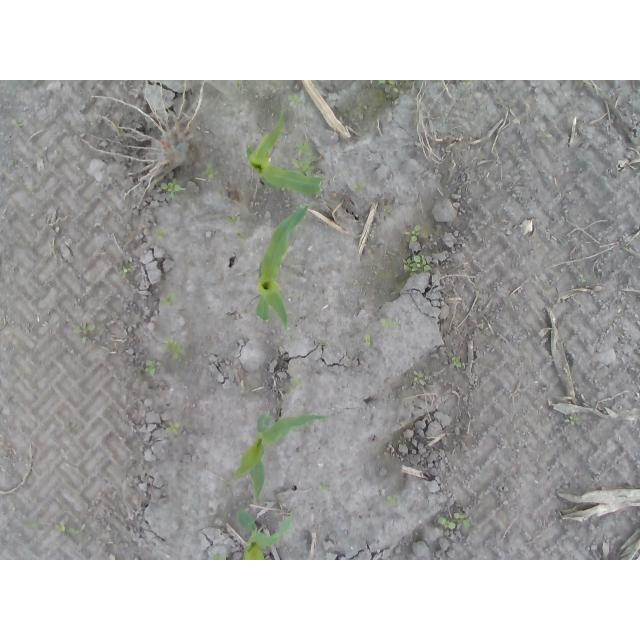Maize: (230, 413, 331, 504), (257, 205, 311, 348), (244, 105, 325, 196), (235, 509, 298, 560)
Weeds: (26, 521, 87, 539), (438, 512, 470, 532), (405, 254, 432, 275), (163, 338, 185, 362), (160, 178, 184, 198), (73, 324, 95, 345), (294, 160, 315, 177), (144, 358, 160, 378), (406, 225, 422, 244), (203, 163, 217, 182), (380, 82, 401, 94), (296, 141, 314, 155), (167, 423, 184, 437), (287, 93, 302, 107), (414, 370, 426, 387), (120, 264, 132, 280), (290, 379, 303, 393), (381, 318, 396, 330), (352, 179, 367, 191), (160, 295, 177, 305), (539, 125, 553, 137), (159, 228, 170, 242), (388, 495, 399, 509), (566, 414, 578, 426), (453, 356, 464, 369), (317, 483, 328, 496), (229, 214, 240, 227), (463, 80, 475, 89), (234, 80, 246, 89), (213, 553, 227, 560), (11, 118, 20, 127), (365, 335, 372, 346), (119, 124, 125, 135), (581, 276, 588, 285)
